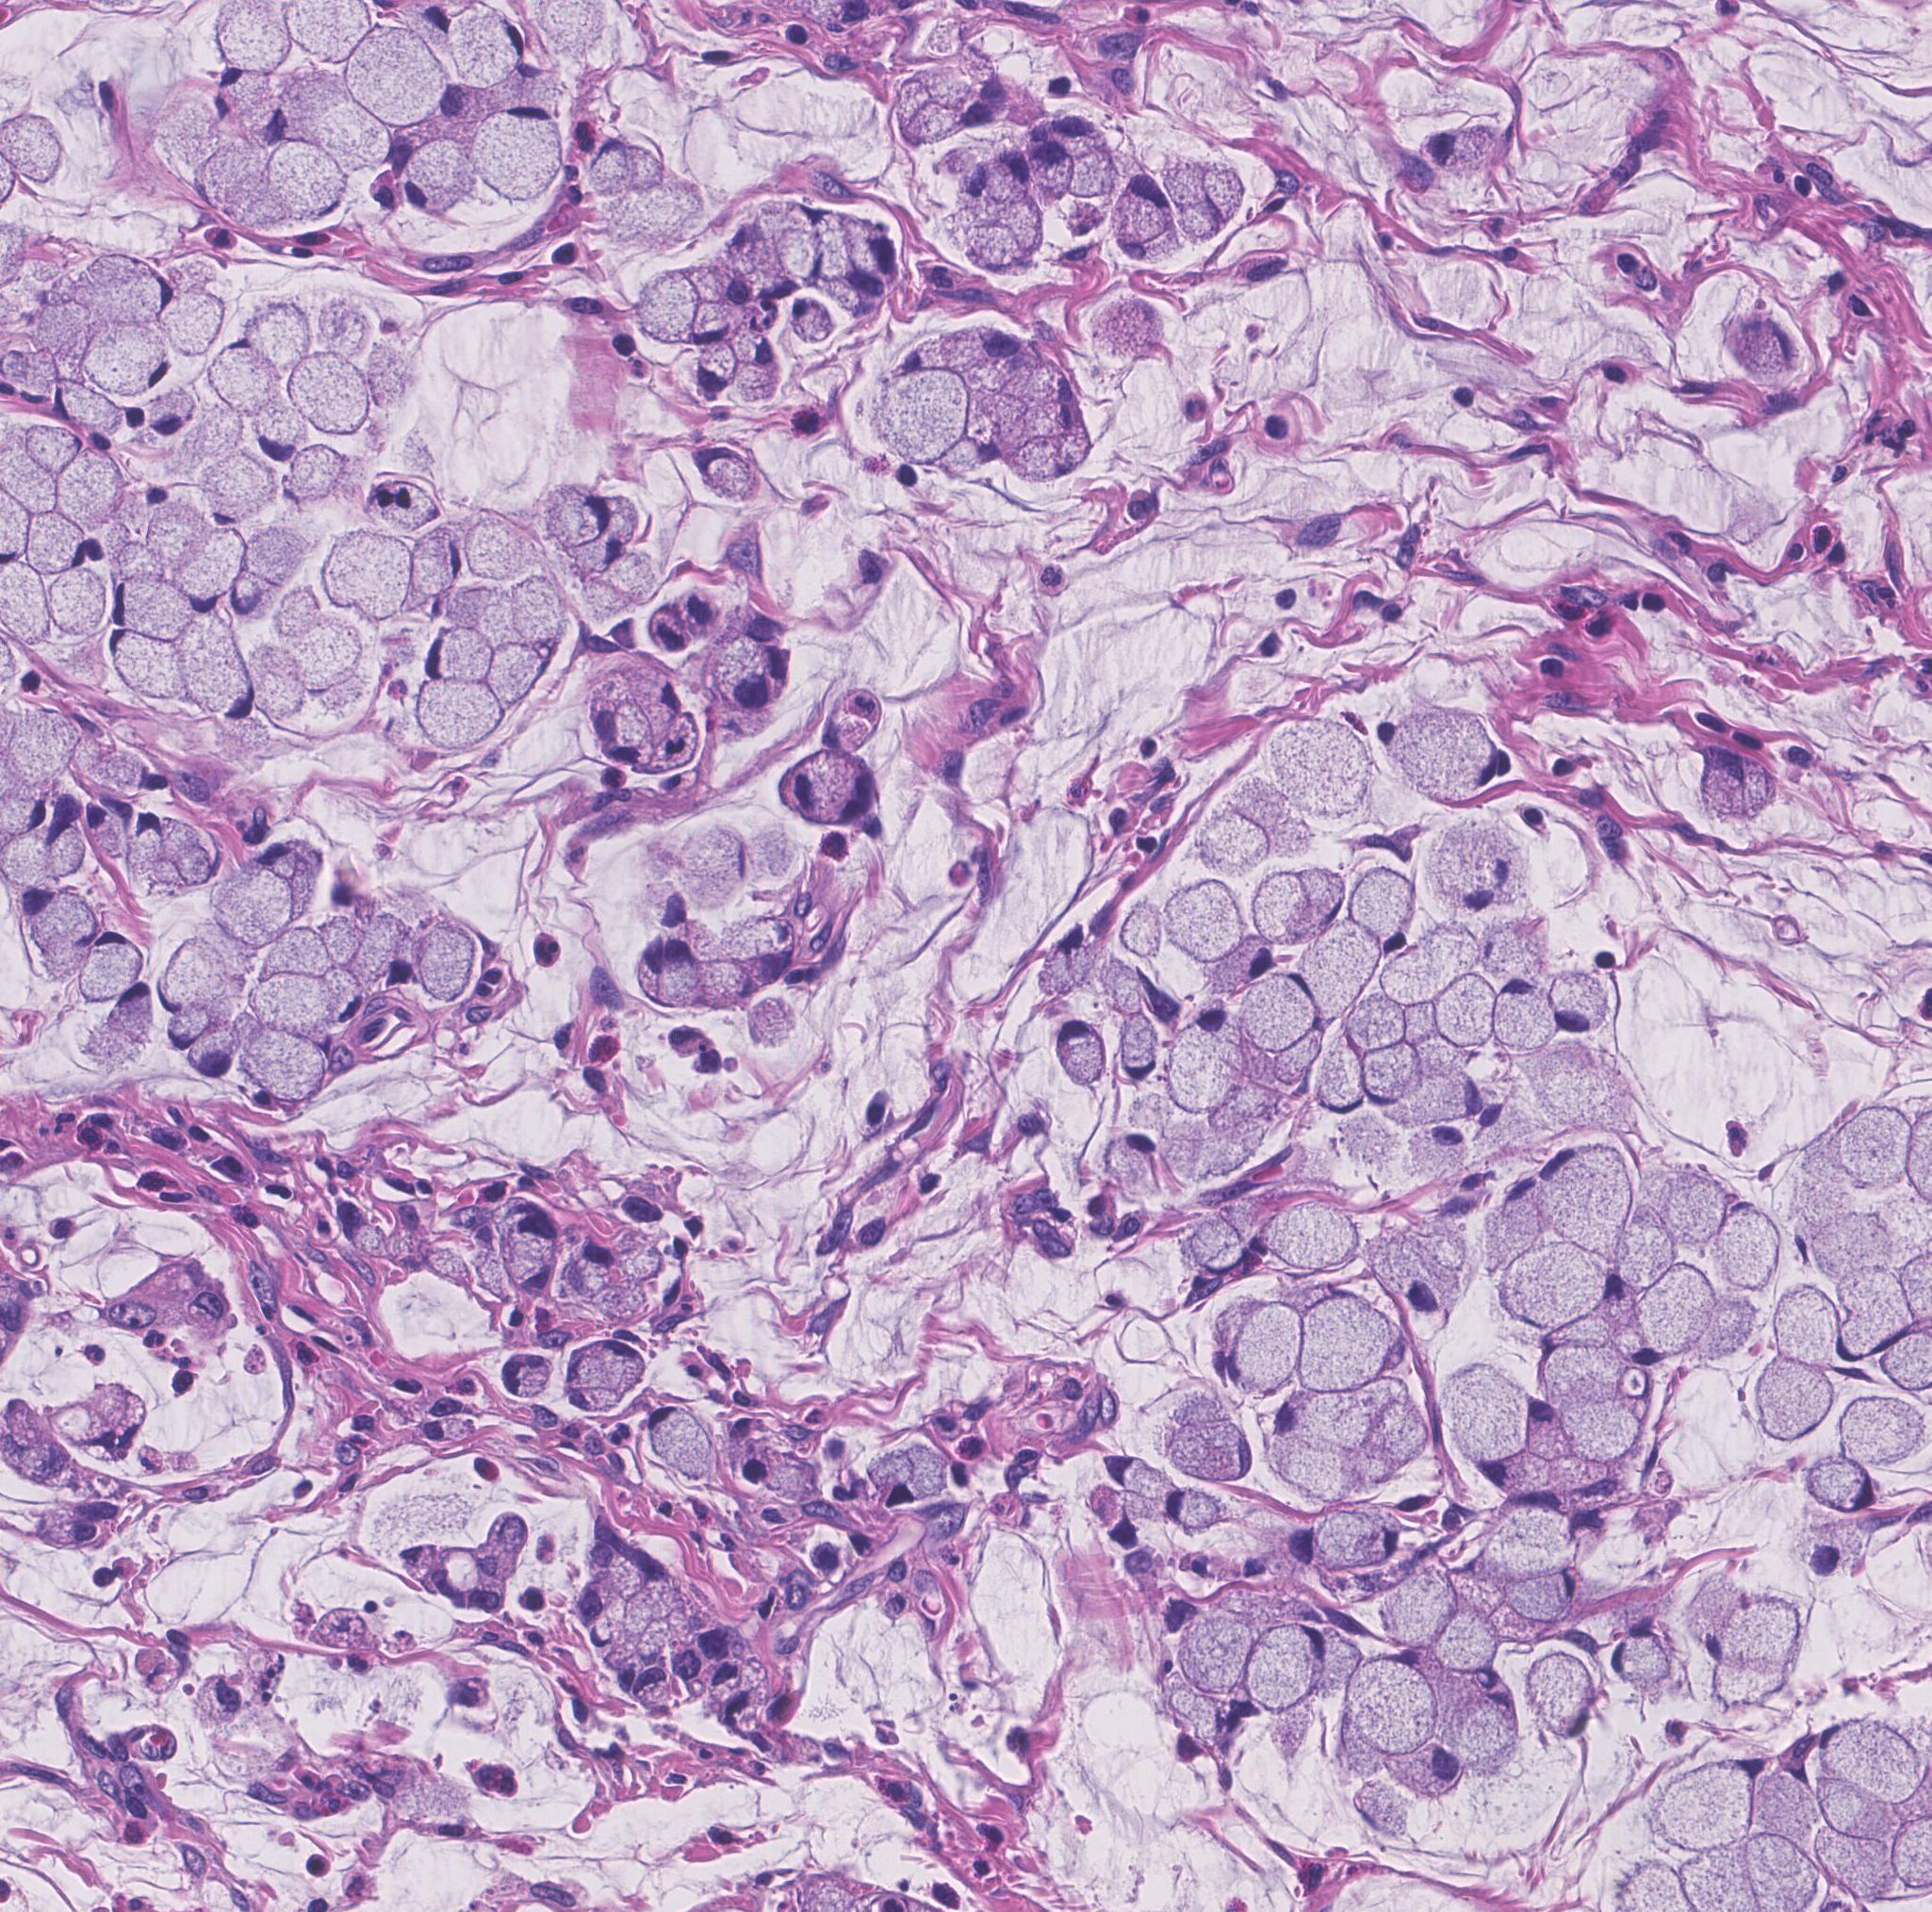ring_cell_cancer: (464, 89, 582, 212), (1338, 1646, 1438, 1767), (1694, 1585, 1818, 1681), (1387, 697, 1498, 804), (1538, 1133, 1643, 1243), (170, 613, 271, 727), (1816, 1719, 1930, 1812), (1270, 1390, 1364, 1501), (1822, 1266, 1923, 1367), (475, 1206, 575, 1310), (77, 298, 175, 403), (1657, 1747, 1760, 1845), (14, 886, 109, 989), (687, 623, 772, 732), (68, 243, 182, 324), (1233, 1620, 1328, 1714), (182, 448, 277, 538), (116, 800, 203, 896), (772, 742, 872, 826), (93, 630, 203, 706), (156, 522, 245, 613), (1753, 1352, 1836, 1450), (1485, 1490, 1585, 1571), (189, 58, 291, 137), (1242, 965, 1321, 1066), (562, 1336, 653, 1423), (401, 137, 485, 231), (1435, 823, 1531, 905), (415, 916, 485, 1026), (942, 299, 1019, 399), (261, 138, 350, 224), (632, 1404, 729, 1483), (666, 438, 764, 515), (413, 613, 497, 702), (1224, 1306, 1305, 1399), (1298, 1499, 1407, 1567), (1018, 917, 1103, 1003), (1387, 1063, 1498, 1129), (1368, 1229, 1450, 1317), (1256, 868, 1347, 947), (1342, 865, 1421, 956), (1442, 1686, 1517, 1779), (145, 944, 240, 1016), (350, 910, 422, 1005), (107, 573, 200, 644), (839, 207, 911, 298), (207, 343, 300, 411), (1394, 1114, 1482, 1185), (1419, 119, 1515, 184), (1713, 1199, 1781, 1290), (11, 503, 91, 580), (487, 1332, 568, 1408), (1534, 1655, 1599, 1747), (1711, 310, 1799, 378), (631, 931, 697, 1019), (77, 930, 152, 1007), (1787, 1459, 1881, 1520), (291, 618, 354, 707), (587, 695, 664, 767), (697, 951, 776, 1021), (300, 970, 377, 1040), (398, 527, 471, 599), (1610, 1625, 1682, 1698), (1485, 974, 1554, 1051), (1310, 1040, 1377, 1117), (1387, 1742, 1468, 1805), (98, 981, 163, 1058), (280, 445, 349, 517), (243, 392, 310, 466), (1554, 963, 1615, 1042), (534, 482, 608, 546), (1361, 1042, 1422, 1119), (1470, 1445, 1557, 1497), (1054, 1017, 1114, 1093), (554, 1243, 625, 1304), (1496, 1571, 1576, 1625), (329, 1199, 391, 1269), (962, 149, 1035, 207), (1049, 96, 1112, 163), (1002, 431, 1084, 482), (137, 383, 198, 448), (767, 221, 823, 291), (40, 821, 105, 881), (1522, 1397, 1582, 1462), (587, 131, 638, 203), (145, 1005, 224, 1051), (685, 343, 746, 399), (1026, 144, 1079, 208), (194, 1019, 236, 1089), (685, 298, 732, 352), (785, 301, 841, 345), (895, 336, 953, 376), (254, 840, 298, 884), (1613, 1364, 1653, 1408)
